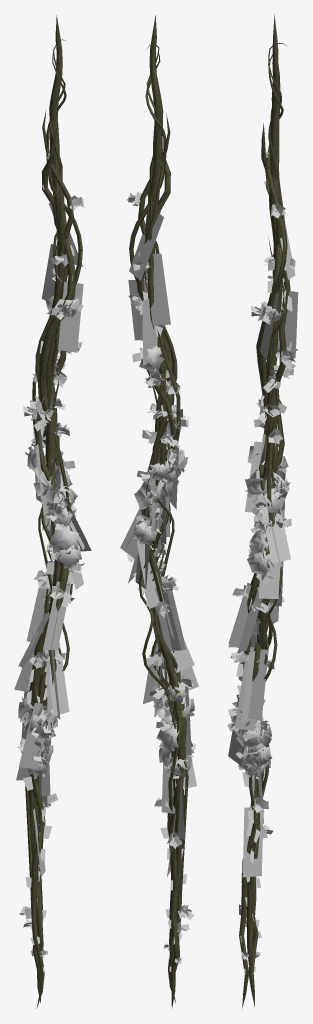
The model's file is Liana1_L0.fbx.
3 renders of one model, left to right at view 1: azimuth 30°, elevation 25°; view 2: azimuth 210°, elevation 25°; view 3: azimuth 330°, elevation 25°, orthographic.
Parts seen in each view (by area): view 1: polySurface26; view 2: polySurface26; view 3: polySurface26.
Part boxes in pixels (box(x1,y1,x2,y2)): polySurface26: box(14, 15, 91, 1008); polySurface26: box(120, 15, 198, 1008); polySurface26: box(227, 14, 298, 1009).
Bounding box in the file's own units: 99.7 × 1433 × 91.03.
